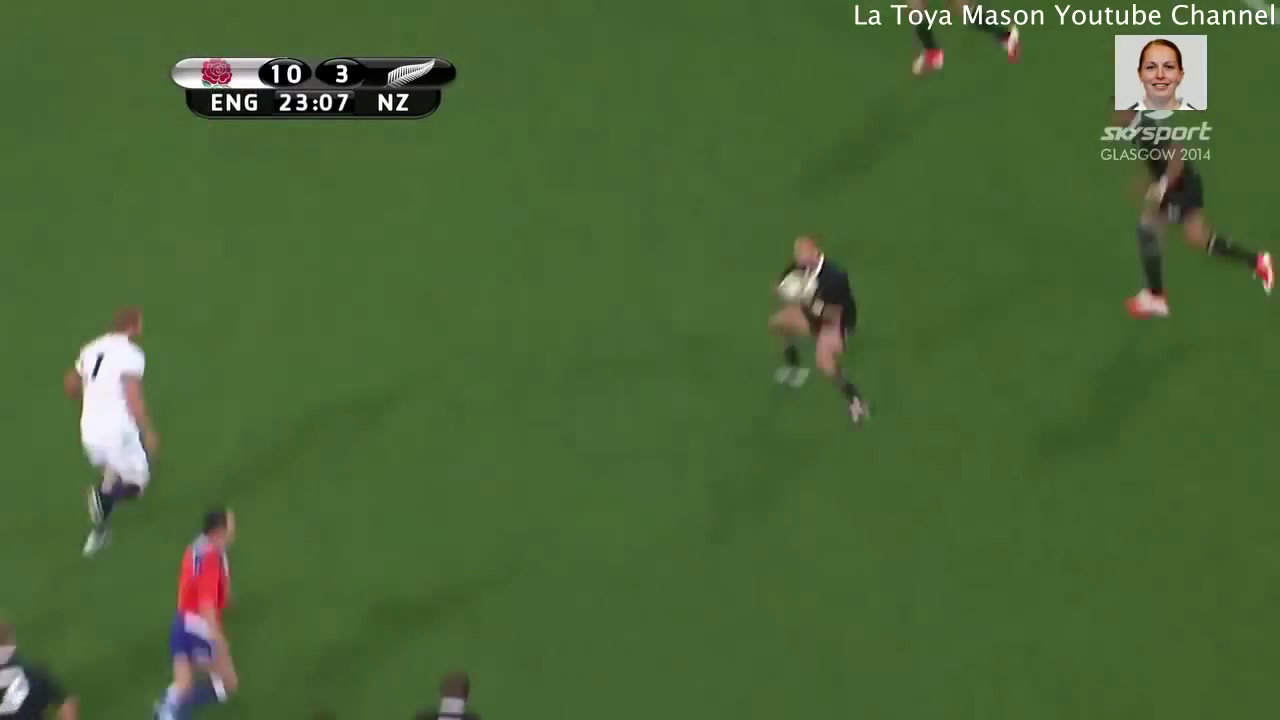ball: (774, 265, 823, 309)
player: (60, 302, 164, 568), (762, 225, 881, 433), (147, 500, 245, 720)
